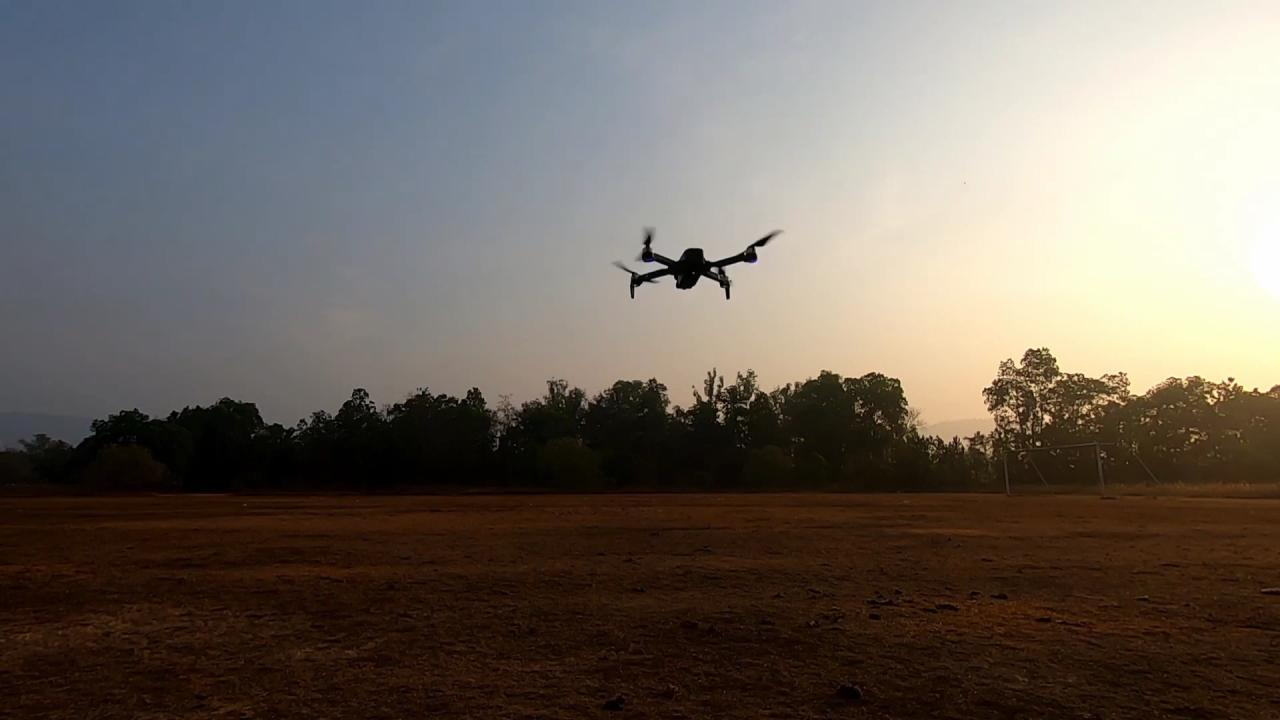Drone: (603, 215, 796, 313)
